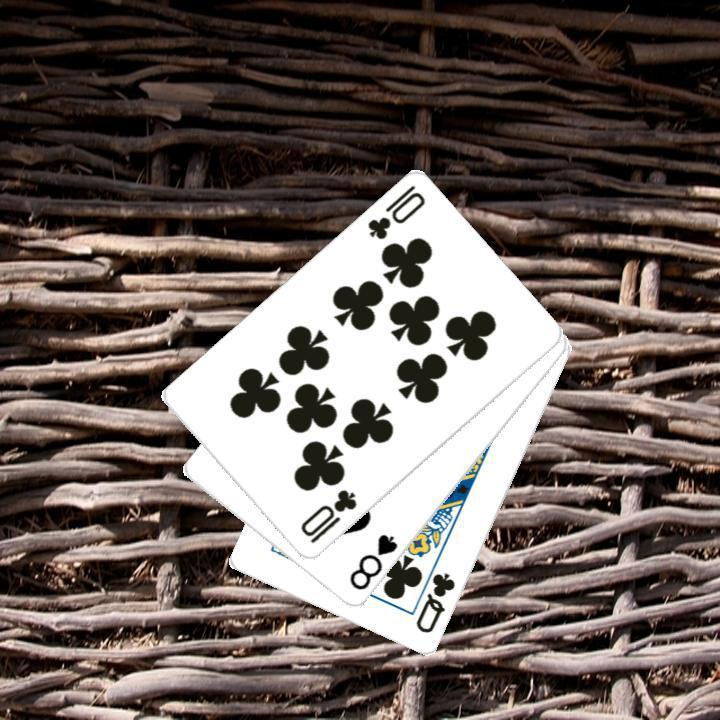10: (363, 181, 428, 243), (295, 485, 360, 546)
8: (345, 530, 400, 593)
Q: (411, 568, 458, 636)
